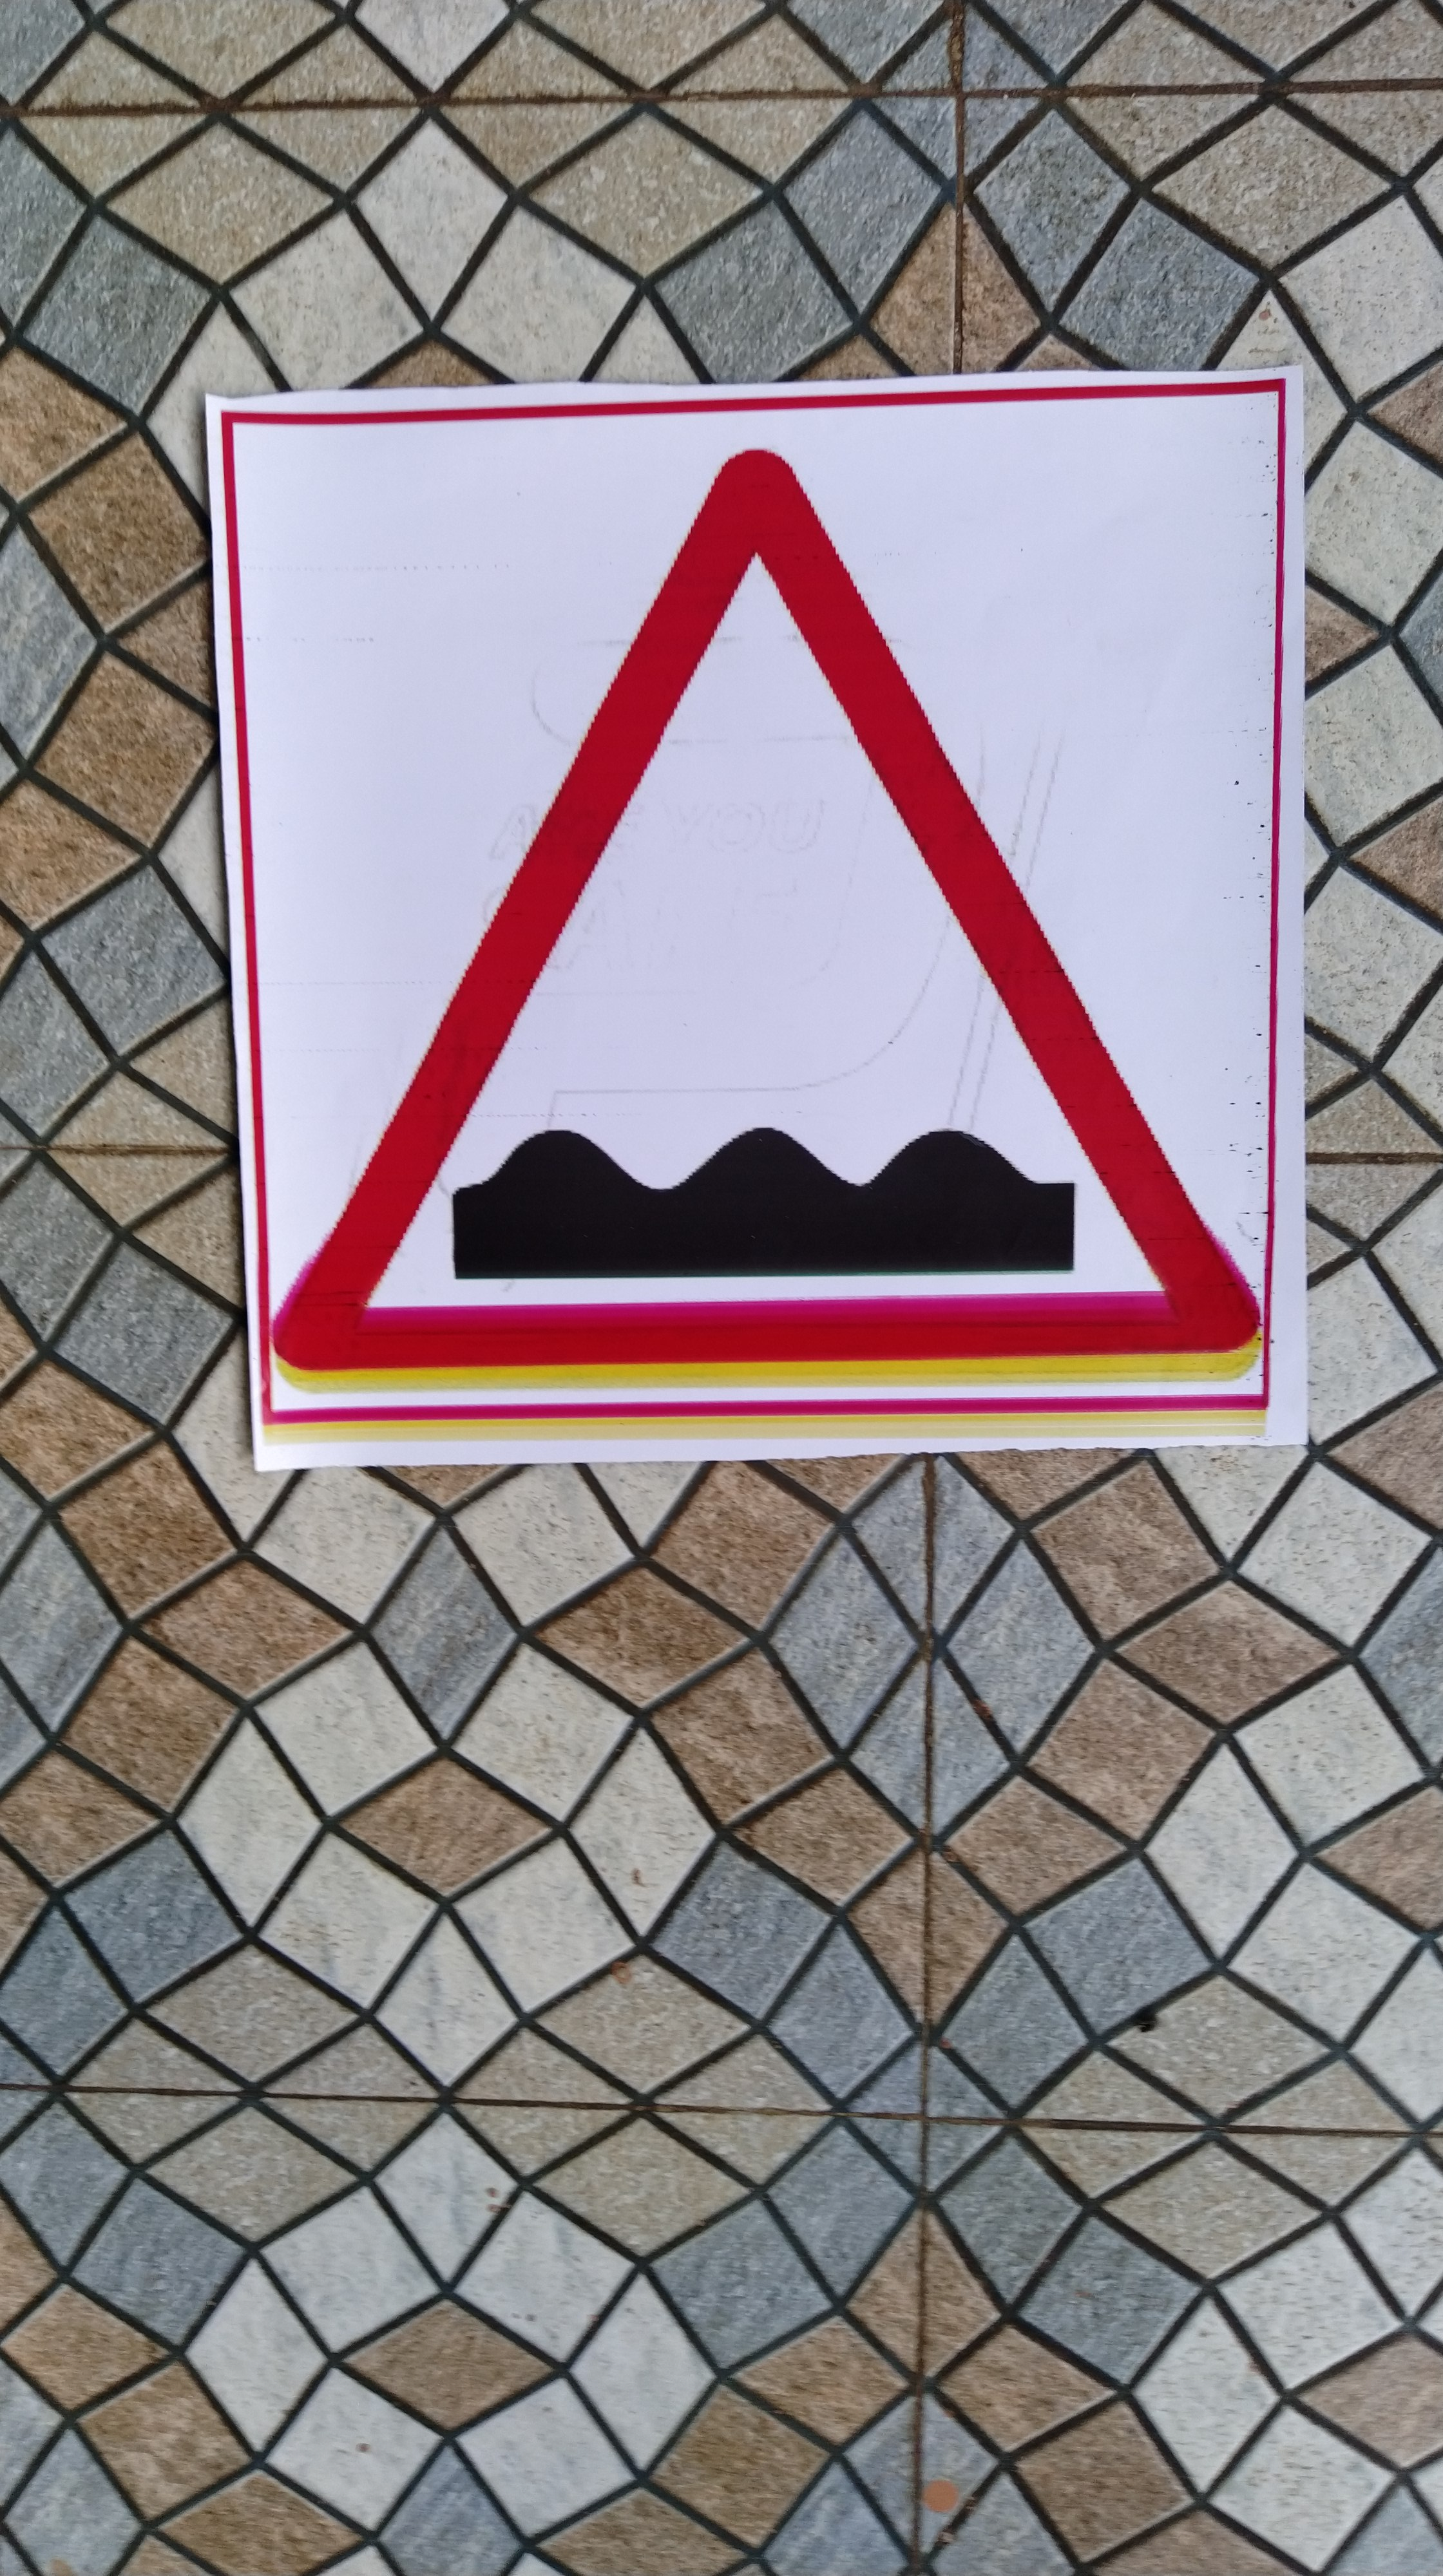speed breaker: (228, 405, 1328, 1451), (232, 409, 1316, 1444), (225, 421, 1316, 1438), (228, 405, 1294, 1435)
